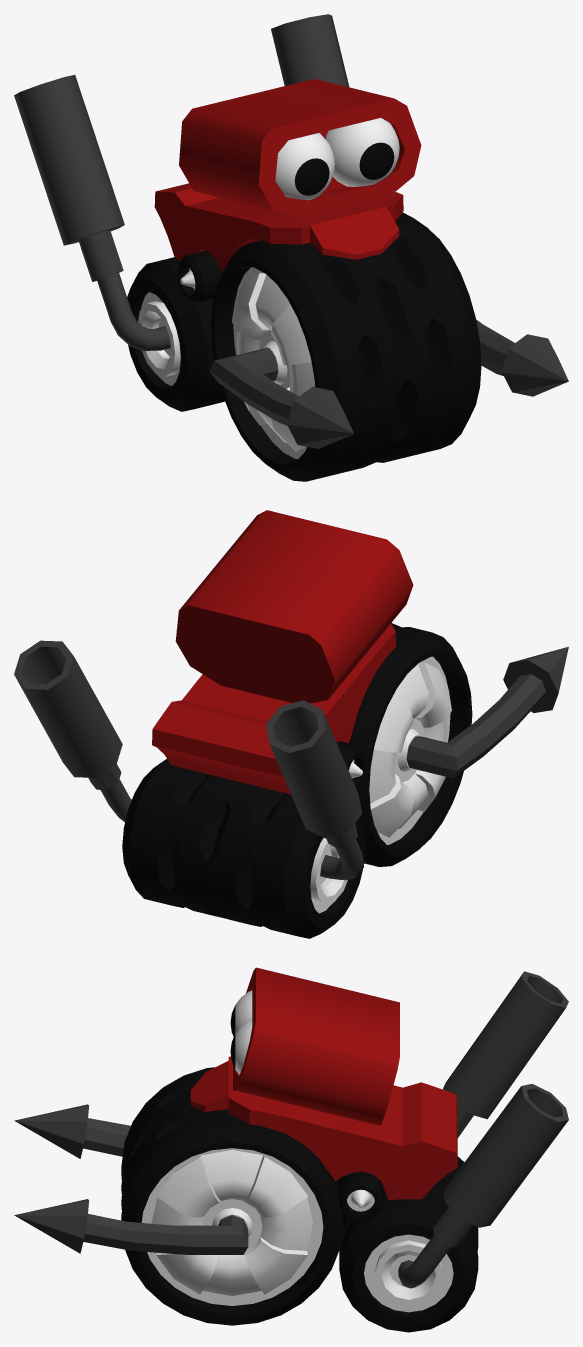
File: Ozmo (1).FBX
The picture shows the model from 3 angles, top to bottom: view 1: azimuth 30°, elevation 25°; view 2: azimuth 150°, elevation 25°; view 3: azimuth 270°, elevation 25°; orthographic projection. The views are drawn at different scales.
Parts seen in each view (by area): view 1: Ozmo_Tire1, Ozmo_Head, Ozmo_Exhaust, Ozmo_Body, Ozmo_Spikes, Ozmo_Tire3, Ozmo_Tire2; view 2: Ozmo_Head, Ozmo_Tire3, Ozmo_Exhaust, Ozmo_Tire1, Ozmo_Body, Ozmo_Spikes, Ozmo_Tire2; view 3: Ozmo_Tire1, Ozmo_Head, Ozmo_Exhaust, Ozmo_Body, Ozmo_Tire3, Ozmo_Spikes, Ozmo_Tire2.
Part boxes in pixels (x1,y1,x2,y2): Ozmo_Tire1: (211, 212, 481, 481); Ozmo_Head: (179, 79, 421, 218); Ozmo_Exhaust: (14, 14, 349, 350); Ozmo_Body: (154, 183, 403, 271); Ozmo_Spikes: (209, 319, 568, 448); Ozmo_Tire3: (127, 257, 224, 411); Ozmo_Tire2: (177, 250, 223, 302); Ozmo_Head: (175, 510, 413, 703); Ozmo_Tire3: (122, 759, 365, 938); Ozmo_Exhaust: (14, 640, 363, 880); Ozmo_Tire1: (337, 623, 472, 866); Ozmo_Body: (152, 622, 395, 794); Ozmo_Spikes: (406, 646, 568, 778); Ozmo_Tire2: (337, 742, 365, 788); Ozmo_Tire1: (121, 1067, 342, 1325); Ozmo_Head: (230, 967, 399, 1125); Ozmo_Exhaust: (398, 971, 568, 1288); Ozmo_Body: (190, 1056, 457, 1200); Ozmo_Tire3: (339, 1156, 478, 1332); Ozmo_Spikes: (14, 1104, 248, 1254); Ozmo_Tire2: (338, 1171, 382, 1220).
Bounding box in the file's own units: 30.67 × 52.35 × 31.56.
